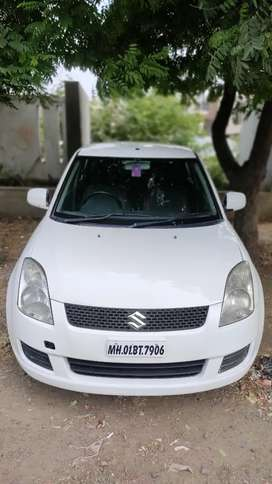MH01BT7906: (106, 340, 170, 357)
